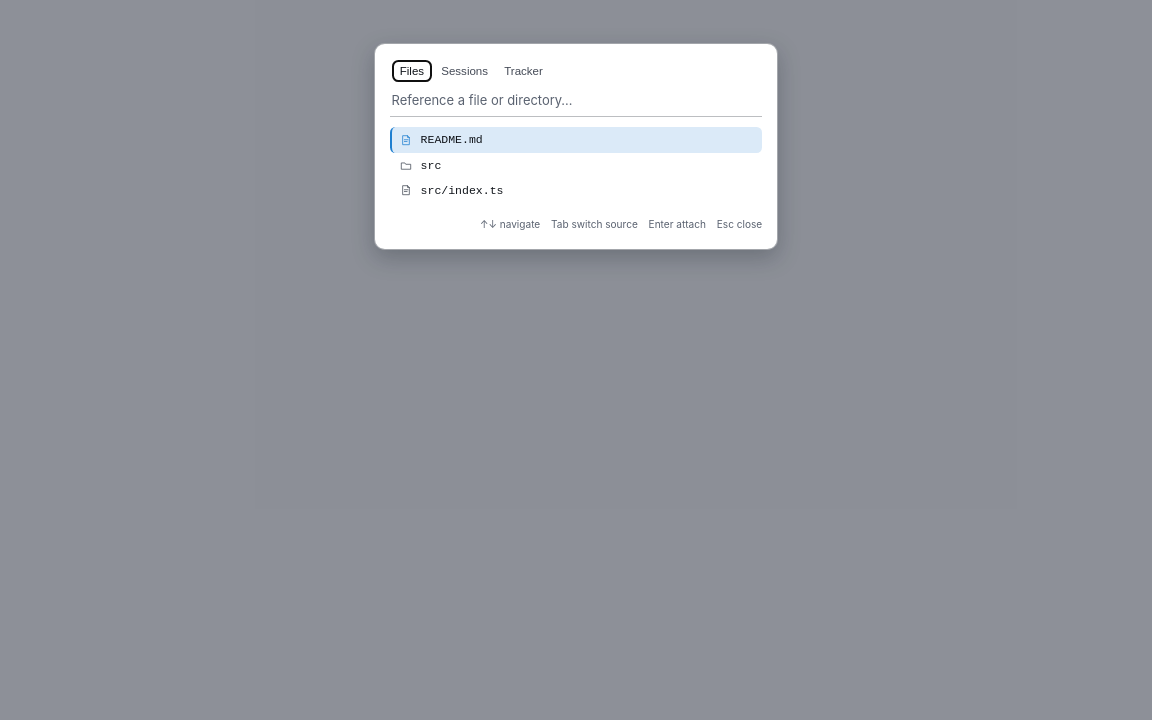
MentionPicker (issue #742, decisions doc C2-3): four sources, all resolving to a MentionRef, never inserted text › clicking a tab switches source without needing the keyboard
Click the tab with test id "mention-picker-tab-sessions" at (465, 71), box [434,60,495,82]
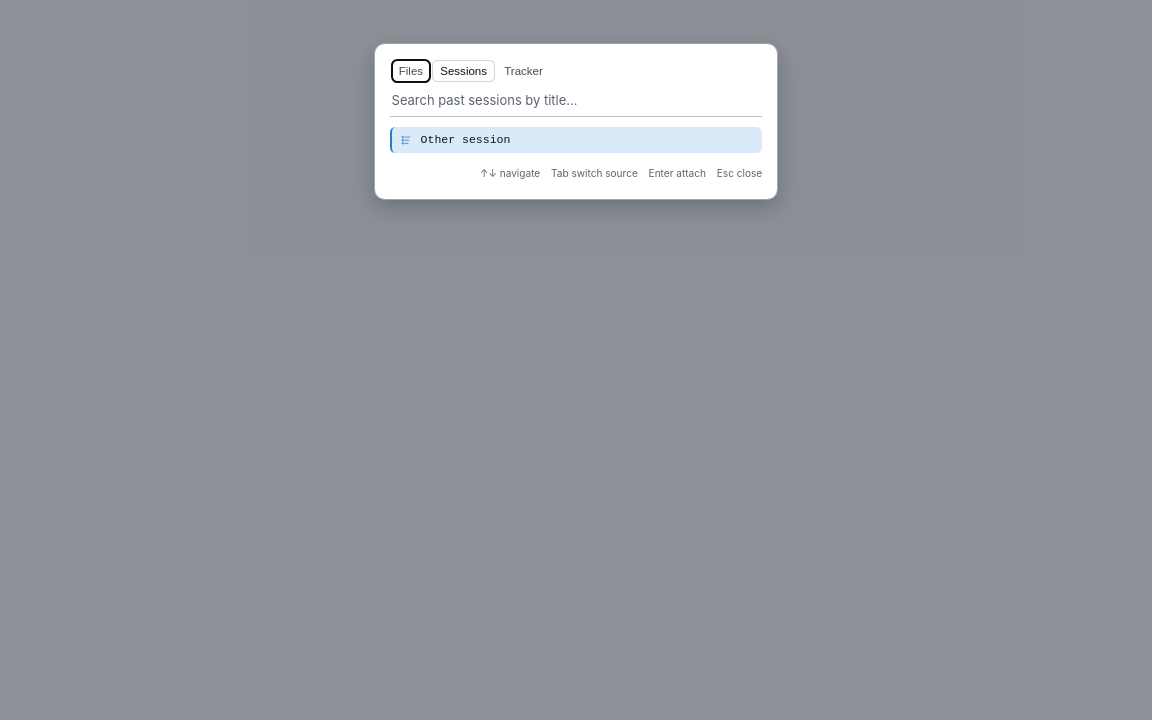
Check: the option with test id "mention-picker-item" reads "Other session", box [390,127,762,152]
